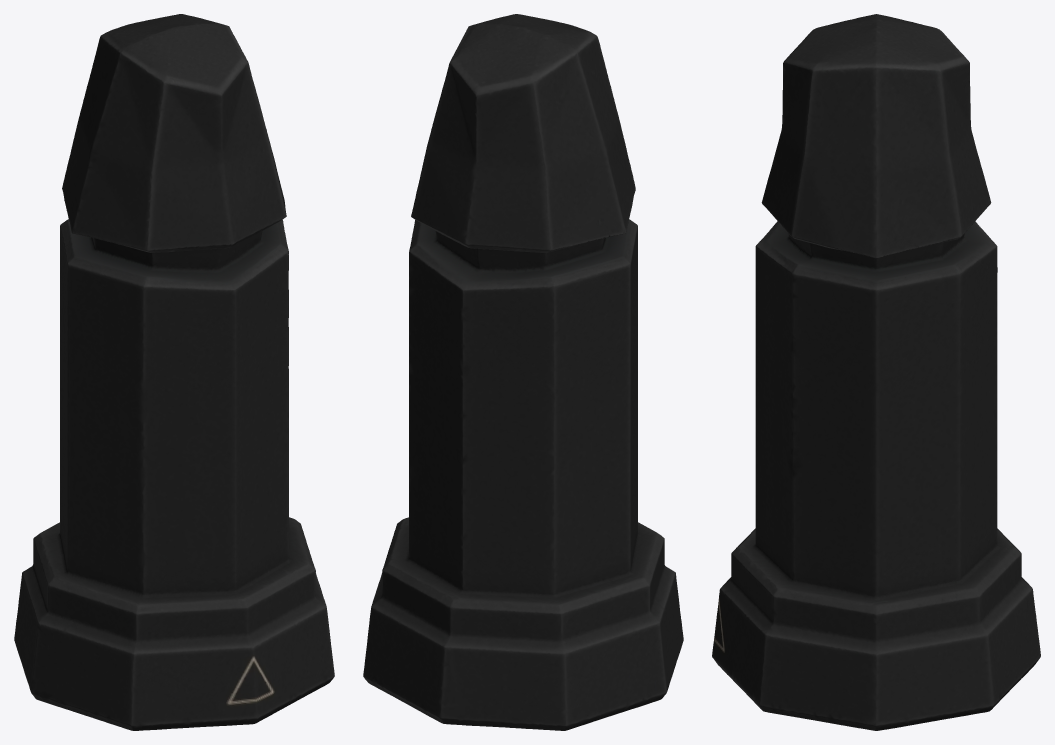
File: Meshy_AI_Obsidian_Monolith_20261027_texture.fbx
3 views of the same model, side by side, from view 1: azimuth 30°, elevation 25°; view 2: azimuth 150°, elevation 25°; view 3: azimuth 270°, elevation 25° (orthographic).
Visible parts, largest first — view 1: Mesh_0; view 2: Mesh_0; view 3: Mesh_0.
Boxes of the visible parts, x1=… form: Mesh_0: x1=14, y1=14, x2=334, y2=730; Mesh_0: x1=363, y1=14, x2=683, y2=730; Mesh_0: x1=712, y1=14, x2=1040, y2=730.
Size of the model in its own units: 89.08 by 190 by 89.13.
1 material, 1 textured.
